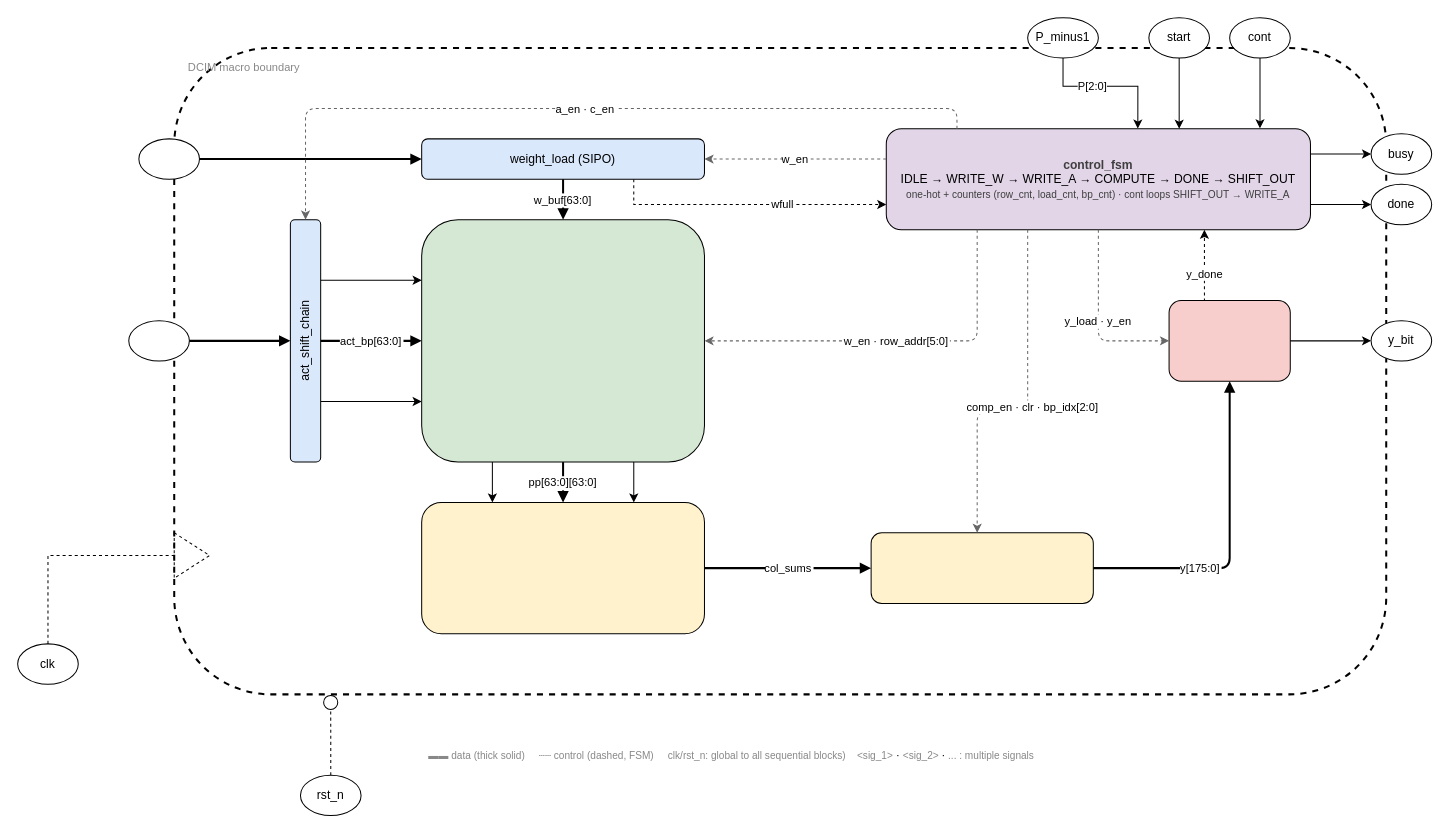
Image size: 1449x833. Some labels were removed from this diagram. Here are the shapes that lost their labels. From the top down, the centre of each, then its label:
At pixel 168 158: "w_bit".
At pixel 158 340: "a_bit".
At pixel 562 340: "dcim_array 64×64".
At pixel 1229 340: "stream_out PISO".
At pixel 562 567: "adder_tree".
At pixel 981 567: "shift_accum".
